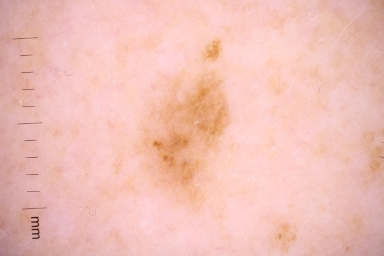nevus: (131, 29, 240, 212)
